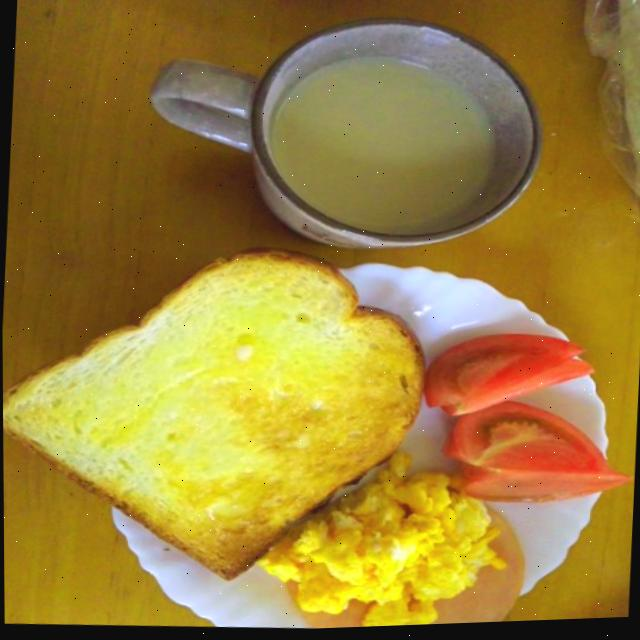面包点心: (1, 141, 340, 518)
